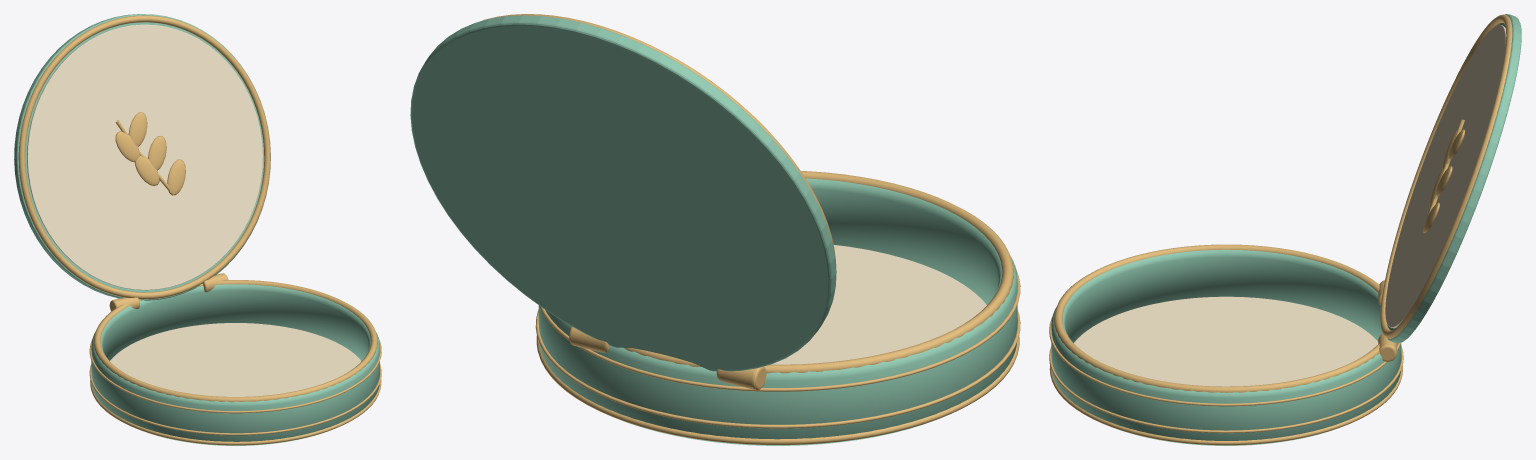
File: cookie_tin_open.glb
The picture shows the model from 3 angles, left to right: view 1: azimuth 30°, elevation 25°; view 2: azimuth 150°, elevation 25°; view 3: azimuth 270°, elevation 25°; orthographic projection. The views are drawn at different scales.
Visible parts, largest first — view 1: Cream lid inner, Enamel shell, Solid biscuit floor, Lid brass roll, Mint lid shell, Rolled brass rim, Rolled brass rim.001, Rolled brass rim.003, Rolled brass rim.002, Embossed wheat leaf.004, Embossed wheat leaf.001, Embossed wheat leaf.003 (+2 smaller); view 2: Mint lid shell, Enamel shell, Solid biscuit floor, Rolled brass rim, Rolled brass rim.001, Rolled brass rim.002, Rolled brass rim.003, Lid brass roll, Lid hinge; view 3: Enamel shell, Solid biscuit floor, Cream lid inner, Rolled brass rim, Lid brass roll, Mint lid shell, Rolled brass rim.001, Rolled brass rim.002, Rolled brass rim.003.
Part boxes in pixels (x1,y1,x2,y2): Cream lid inner: (27,24,262,290); Enamel shell: (91,284,379,445); Solid biscuit floor: (110,323,361,396); Lid brass roll: (18,15,270,299); Mint lid shell: (14,14,270,300); Rolled brass rim: (93,280,377,402); Rolled brass rim.001: (90,379,381,445); Rolled brass rim.003: (89,339,381,413); Rolled brass rim.002: (89,364,381,435); Embossed wheat leaf.004: (167,159,185,195); Embossed wheat leaf.001: (115,131,139,162); Embossed wheat leaf.003: (135,156,159,186); Mint lid shell: (410,15,836,371); Enamel shell: (538,178,1017,445); Solid biscuit floor: (771,245,986,364); Rolled brass rim: (624,171,1013,373); Rolled brass rim.001: (536,336,1019,445); Rolled brass rim.002: (535,310,1020,428); Rolled brass rim.003: (539,269,1020,391); Lid brass roll: (480,14,836,266); Lid hinge: (716,366,766,390); Enamel shell: (1051,249,1401,445); Solid biscuit floor: (1074,296,1378,386); Cream lid inner: (1385,24,1506,328); Rolled brass rim: (1054,244,1379,392); Lid brass roll: (1380,14,1512,338); Mint lid shell: (1387,14,1521,343); Rolled brass rim.001: (1049,365,1402,445); Rolled brass rim.002: (1049,346,1403,433); Rolled brass rim.003: (1049,317,1401,406).
Size of the model in its own units: 3.59 by 3.82 by 4.78.
